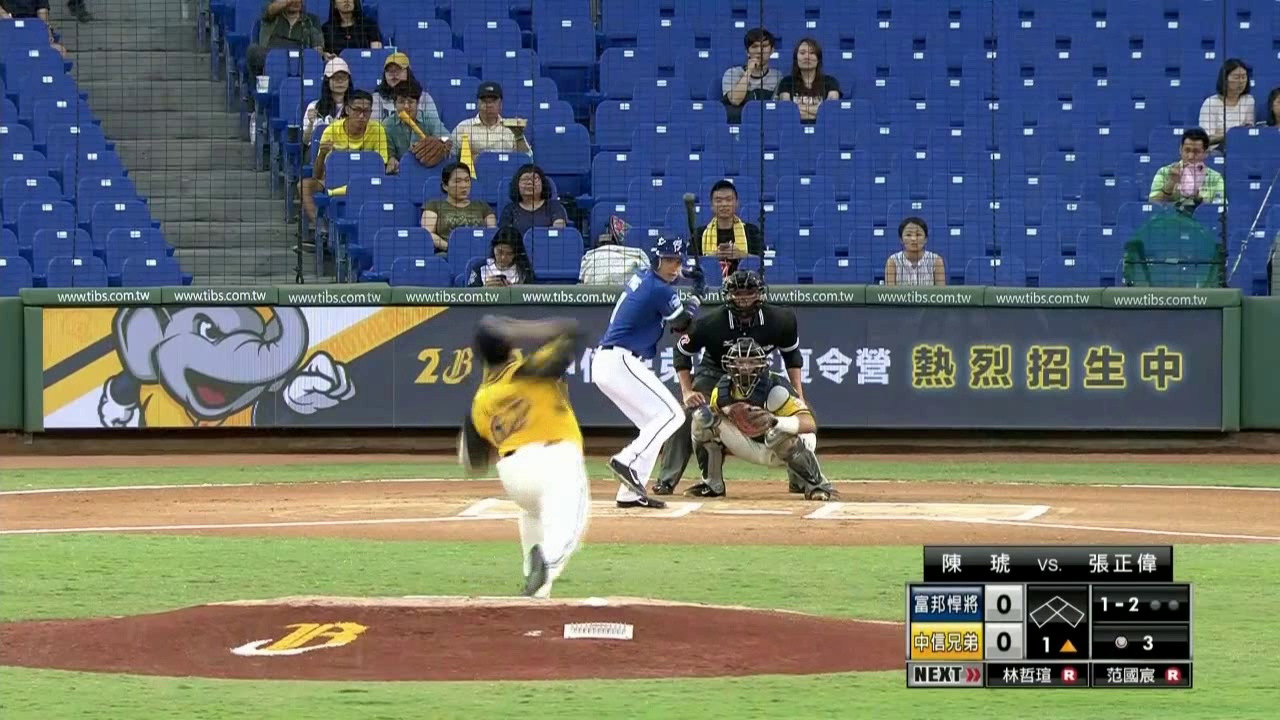ball: (487, 317, 502, 329)
base: (1025, 585, 1085, 634)
bat: (683, 195, 703, 288)
out: (1147, 594, 1187, 620)
score1: (992, 593, 1021, 621)
score2: (991, 624, 1021, 657)
session: (1028, 632, 1083, 657)
strikeball: (1100, 590, 1142, 621)
total: (1103, 628, 1164, 657)
